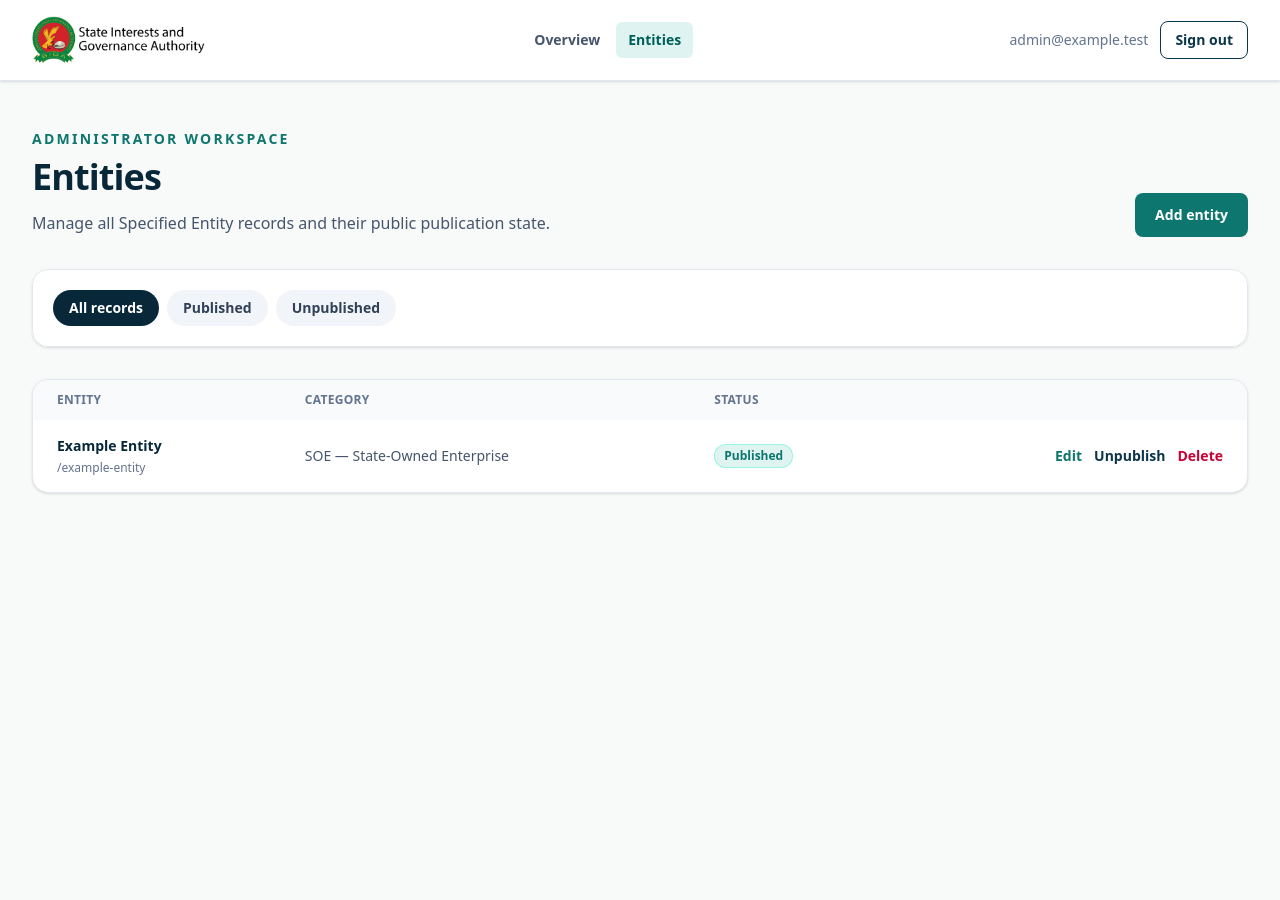
it: administrator interface › requires an explicit deletion confirmation and can publish or unpublish a record
The image size is (1280, 900).
Click the button with aria-label "Unpublish Example Entity" at (1130, 456), box x1=1094 y1=446 x2=1166 y2=466
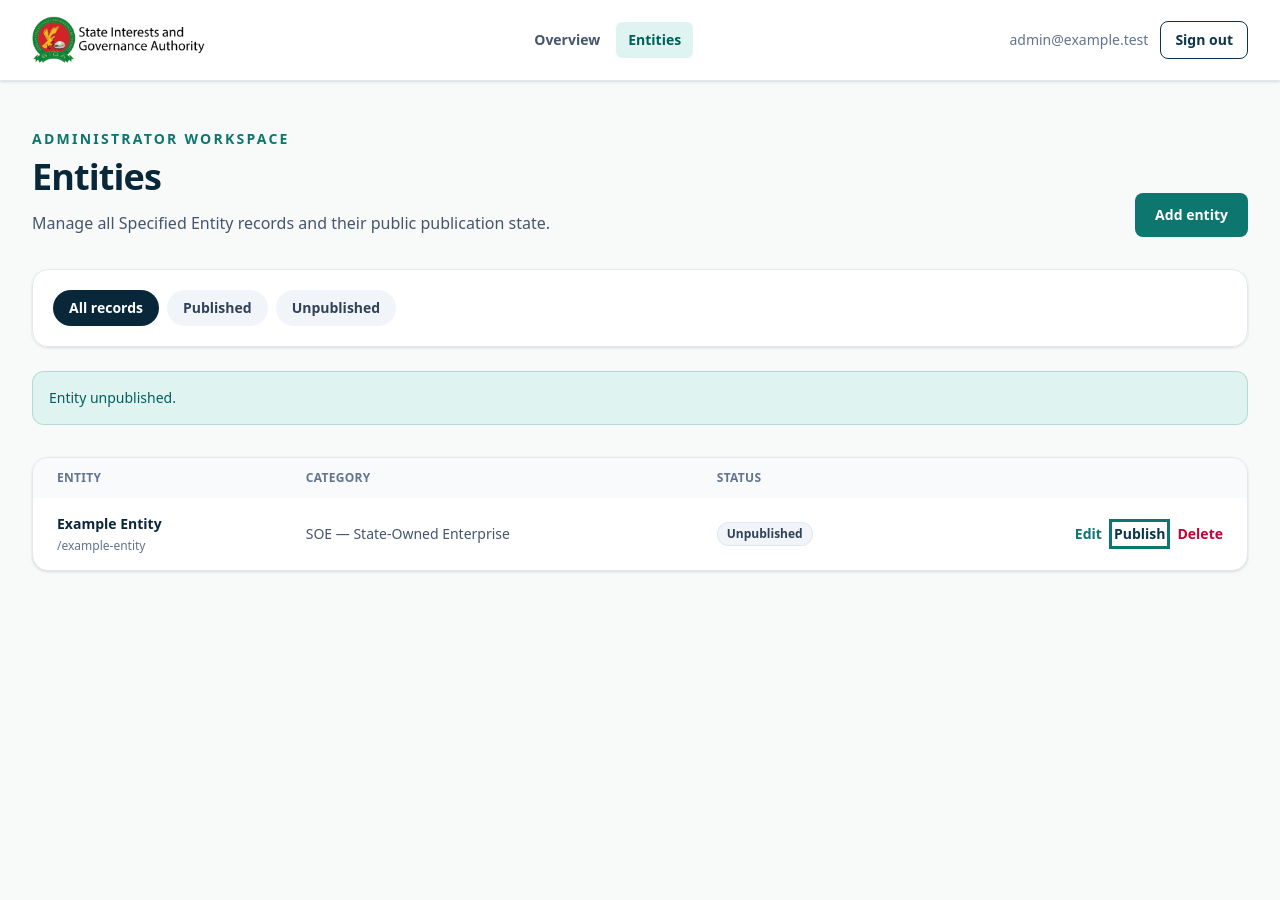
Expected: the text "Entity unpublished." is shown, x1=32 y1=371 x2=1248 y2=425
Click the button with aria-label "Delete Example Entity" at (1200, 534), box x1=1178 y1=524 x2=1223 y2=544
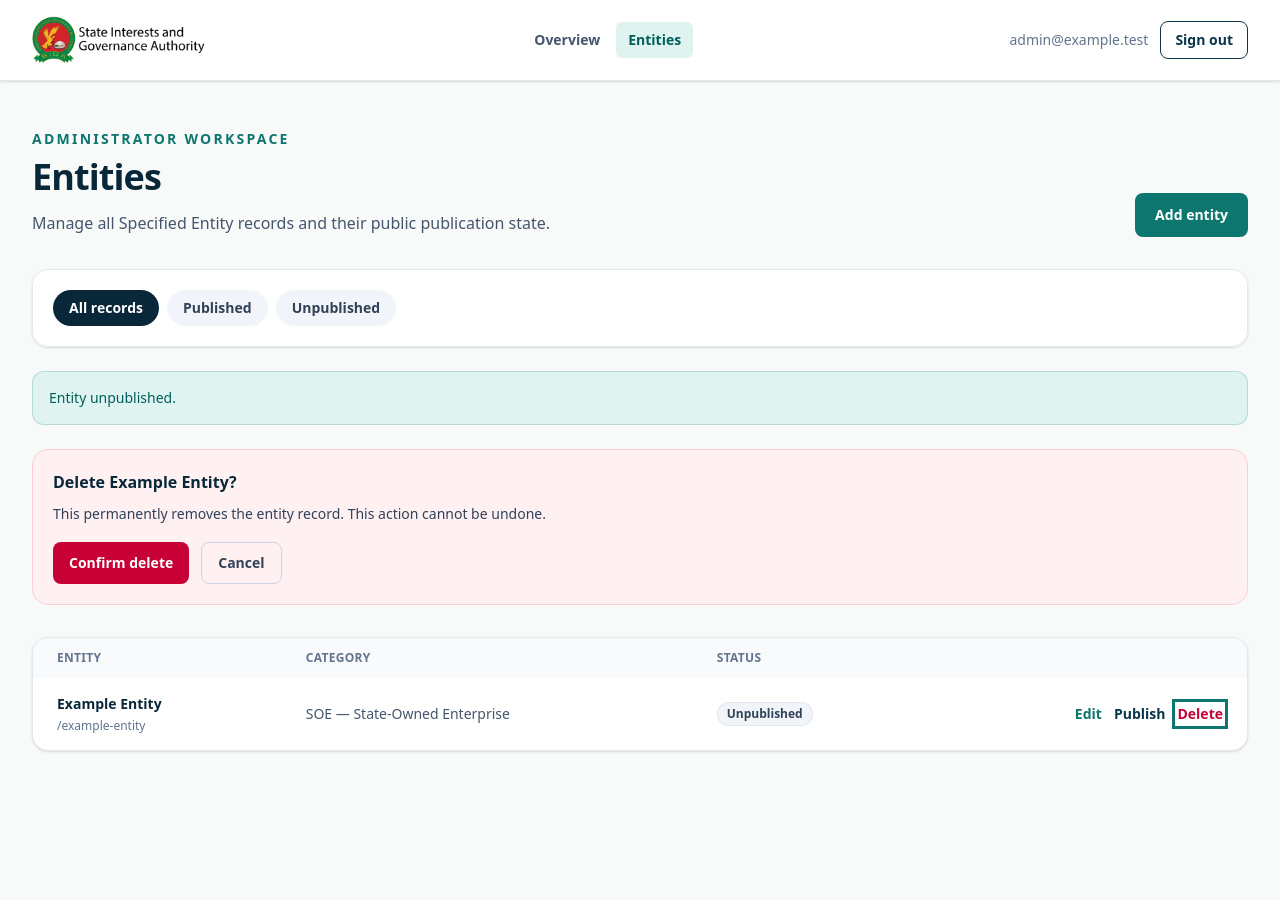
Expected: the dialog is shown, x1=32 y1=449 x2=1248 y2=605
Click the button "Confirm delete" at (121, 563), box x1=53 y1=542 x2=189 y2=584
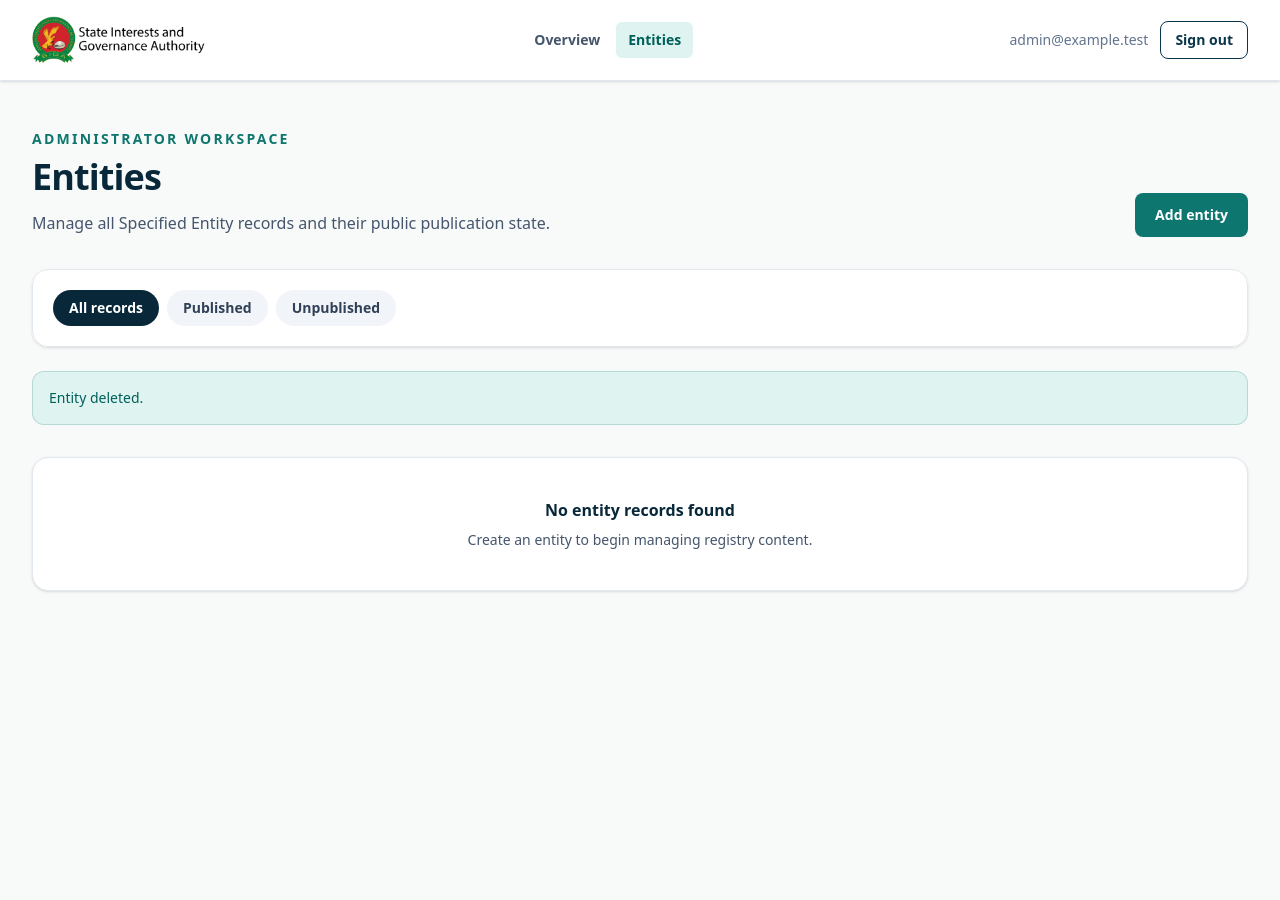
Expected: the text "Entity deleted." is shown, x1=32 y1=371 x2=1248 y2=425
